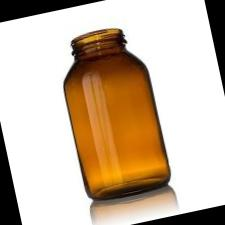glass: (32, 11, 189, 217)
